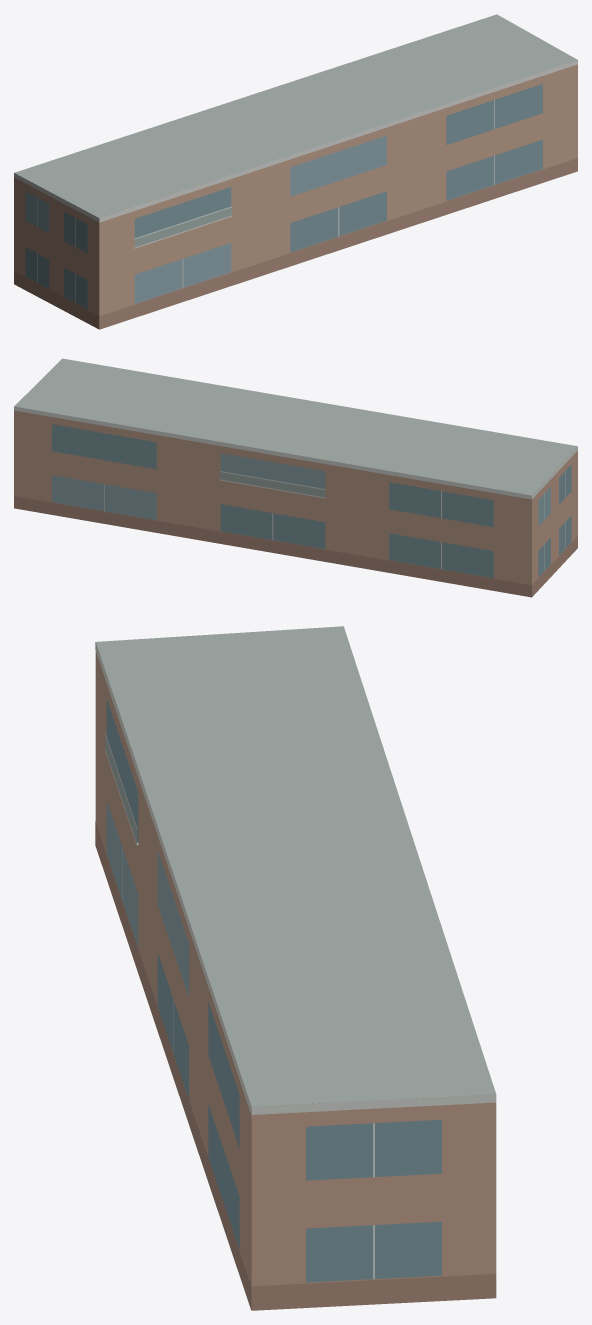
Rendered from survey-upis-32574462.glb.
The picture shows the model from 3 angles, top to bottom: view 1: azimuth 30°, elevation 25°; view 2: azimuth 150°, elevation 25°; view 3: azimuth 270°, elevation 25°; orthographic projection. The views are drawn at different scales.
Visible parts, largest first — view 1: survey-upis-32574462.tmp; view 2: survey-upis-32574462.tmp; view 3: survey-upis-32574462.tmp.
Boxes of the visible parts, <box> form: survey-upis-32574462.tmp: <box>14,14,577,329</box>; survey-upis-32574462.tmp: <box>14,358,577,597</box>; survey-upis-32574462.tmp: <box>95,626,496,1310</box>.
Bounding box in the file's own units: 30.86 × 6.1 × 10.88.
